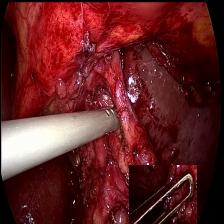Grasper: (128, 164, 196, 224)
Irrigator: (86, 101, 119, 139)
